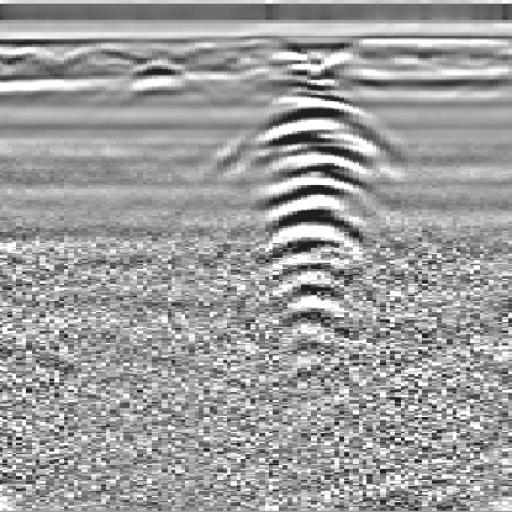metalic: (187, 40, 429, 341)
